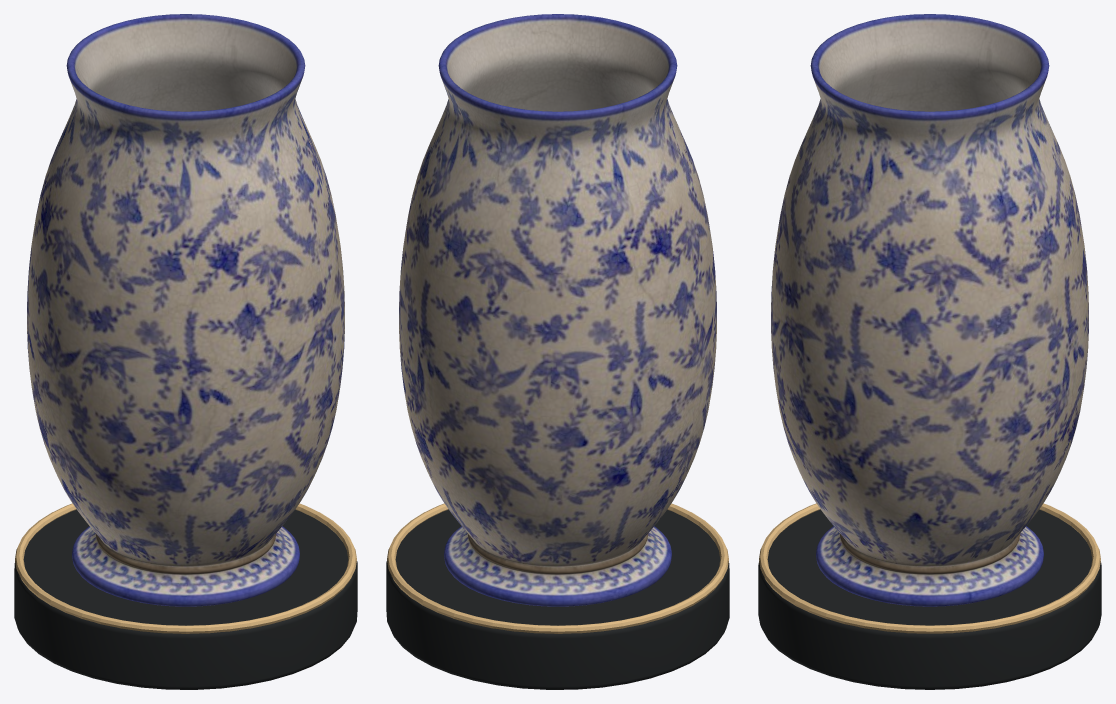
Rendered from hp_room_cc0_antique_ceramic_vase_01.glb.
3 renders of one model, left to right at view 1: azimuth 30°, elevation 25°; view 2: azimuth 150°, elevation 25°; view 3: azimuth 270°, elevation 25°, orthographic.
Parts seen in each view (by area): view 1: antique_ceramic_vase_01, hp_museum_low_black_plinth, hp_museum_plinth_brass_lip; view 2: antique_ceramic_vase_01, hp_museum_low_black_plinth, hp_museum_plinth_brass_lip; view 3: antique_ceramic_vase_01, hp_museum_low_black_plinth, hp_museum_plinth_brass_lip.
Boxes of the visible parts, x1,y1,x2,y2 form: antique_ceramic_vase_01: [27, 14, 344, 606]; hp_museum_low_black_plinth: [14, 509, 357, 689]; hp_museum_plinth_brass_lip: [15, 503, 356, 633]; antique_ceramic_vase_01: [399, 14, 716, 606]; hp_museum_low_black_plinth: [386, 509, 729, 689]; hp_museum_plinth_brass_lip: [387, 503, 728, 633]; antique_ceramic_vase_01: [771, 14, 1088, 606]; hp_museum_low_black_plinth: [758, 509, 1101, 689]; hp_museum_plinth_brass_lip: [759, 503, 1100, 633].
Size of the model in its own units: 0.6266 by 1.12 by 0.6266.
Materials: 3 (1 with a texture image).
